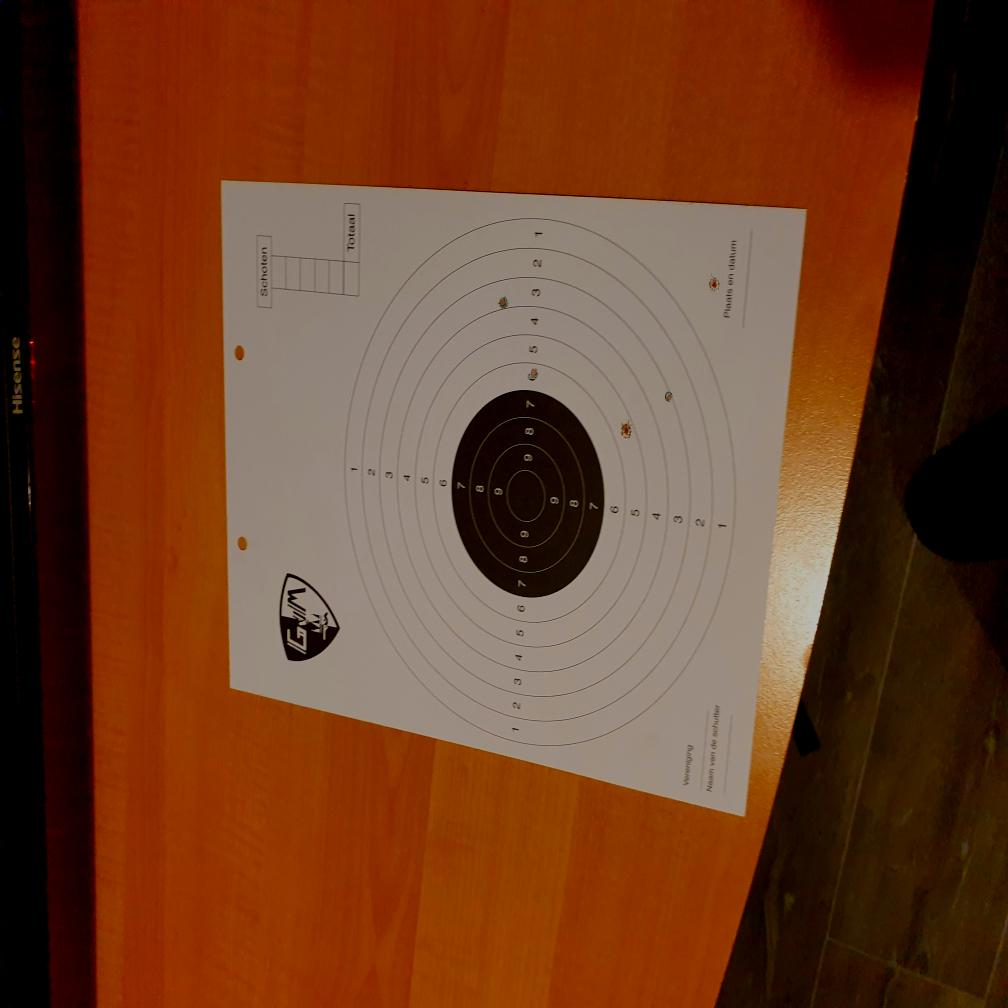0: (707, 273, 721, 293)
3: (663, 388, 675, 404)
4: (497, 295, 512, 310)
5: (620, 419, 633, 440)
6: (530, 367, 539, 379)
Target: (343, 218, 737, 749)
black_contour: (451, 389, 605, 599)
